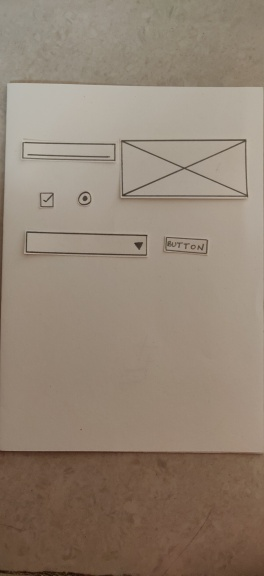button: (162, 234, 209, 258)
checkbox: (37, 190, 56, 209)
dropdown: (22, 228, 150, 259)
img: (118, 135, 250, 203)
radio: (75, 190, 94, 208)
text: (21, 140, 117, 162)
